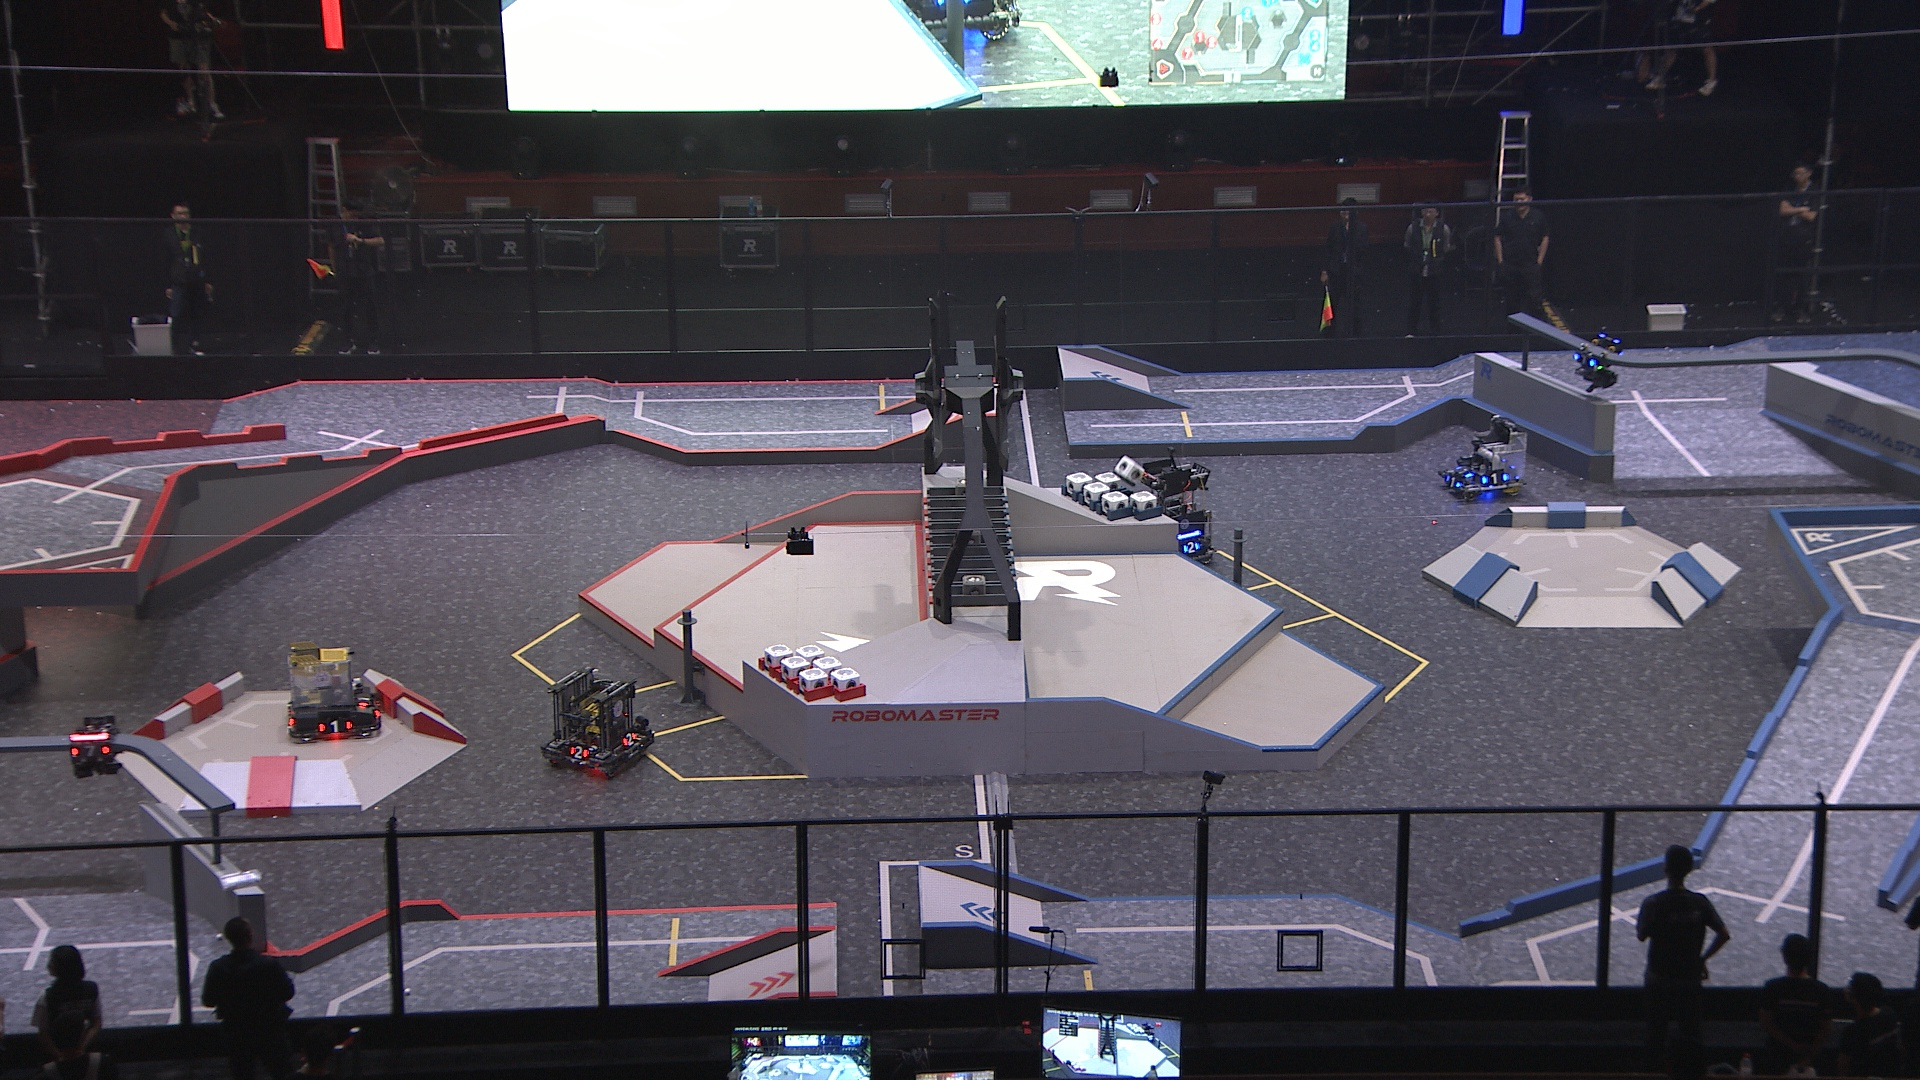armor: (67, 740, 112, 756), (1572, 349, 1600, 371), (320, 717, 352, 735), (1477, 471, 1509, 485), (1455, 462, 1476, 479), (567, 745, 589, 761), (1444, 471, 1462, 489), (622, 731, 637, 749), (357, 688, 371, 708), (1182, 542, 1201, 553)
car: (541, 669, 655, 778), (280, 638, 384, 745), (1127, 452, 1220, 568), (1439, 413, 1531, 501)
watcher: (65, 716, 129, 779), (1571, 330, 1622, 392)
